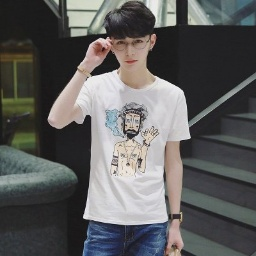face: (104, 1, 158, 73)
